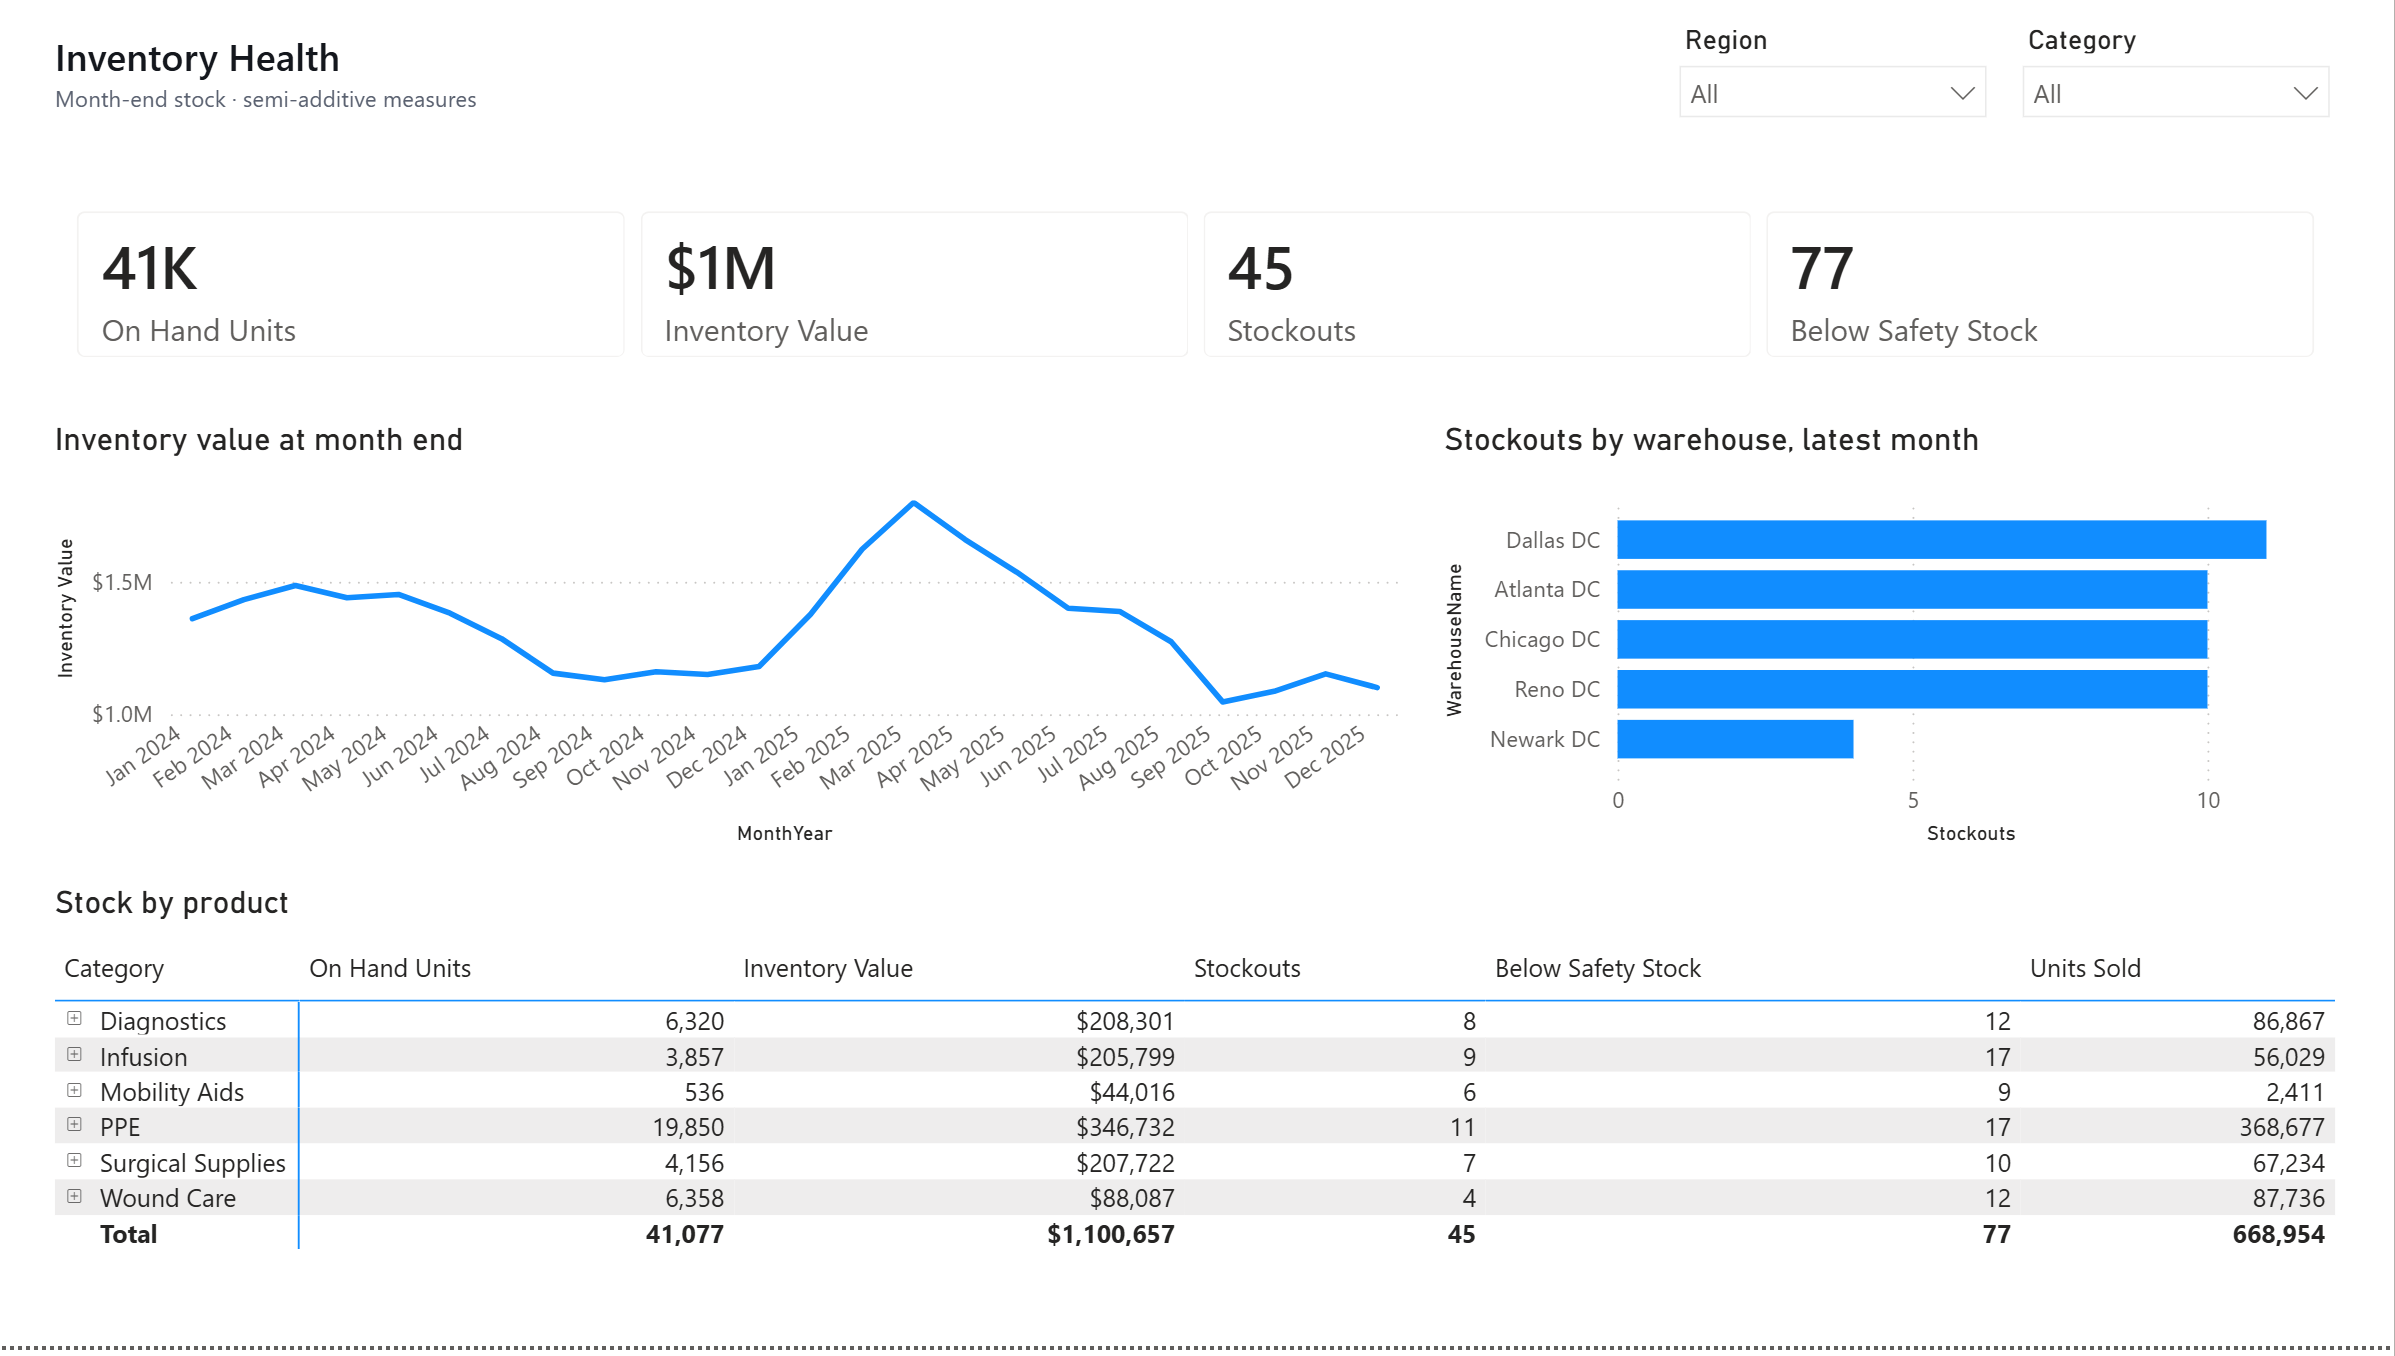

The page's visual inventory and layout, read from the dashboard file:
{"tool":"powerbi","page":{"name":"Inventory Health","canvas":[1280,720],"ordinal":2},"visuals":[{"type":"textbox","box":[24,12,640,64],"z":0},{"type":"slicer","fields":{"Values":["Dim_Warehouse.Region"]},"box":[888,8,184,80],"z":1000},{"type":"slicer","fields":{"Values":["Dim_Product.Category"]},"box":[1072,8,184,80],"z":2000},{"type":"cardVisual","fields":{"Data":["_Measures.On Hand Units","_Measures.Inventory Value","_Measures.Stockouts","_Measures.Below Safety Stock"]},"box":[24,96,1232,112],"z":3000},{"type":"lineChart","title":"Inventory value at month end","fields":{"Category":["Dim_Date.MonthYear"],"Y":["_Measures.Inventory Value"]},"box":[24,224,728,232],"z":4000},{"type":"clusteredBarChart","title":"Stockouts by warehouse, latest month","fields":{"Category":["Dim_Warehouse.WarehouseName"],"Y":["_Measures.Stockouts"]},"box":[768,224,488,232],"z":5000},{"type":"pivotTable","title":"Stock by product","fields":{"Rows":["Dim_Product.Category","Dim_Product.ProductName"],"Values":["_Measures.On Hand Units","_Measures.Inventory Value","_Measures.Stockouts","_Measures.Below Safety Stock","_Measures.Units Sold"]},"box":[24,472,1232,232],"z":6000}]}

Visuals, with their boxes in screenshot pixels (x1, y1, x2, y2), scaled from the page's 1280x720 canvas onto the 2395x1356 screenshot:
textbox: box=[45, 23, 1242, 143]
slicer - Dim_Warehouse.Region: box=[1662, 15, 2006, 166]
slicer - Dim_Product.Category: box=[2006, 15, 2350, 166]
cardVisual - _Measures.On Hand Units x _Measures.Inventory Value: box=[45, 181, 2350, 392]
"Inventory value at month end" lineChart: box=[45, 422, 1407, 859]
"Stockouts by warehouse, latest month" clusteredBarChart: box=[1437, 422, 2350, 859]
"Stock by product" pivotTable: box=[45, 889, 2350, 1326]
